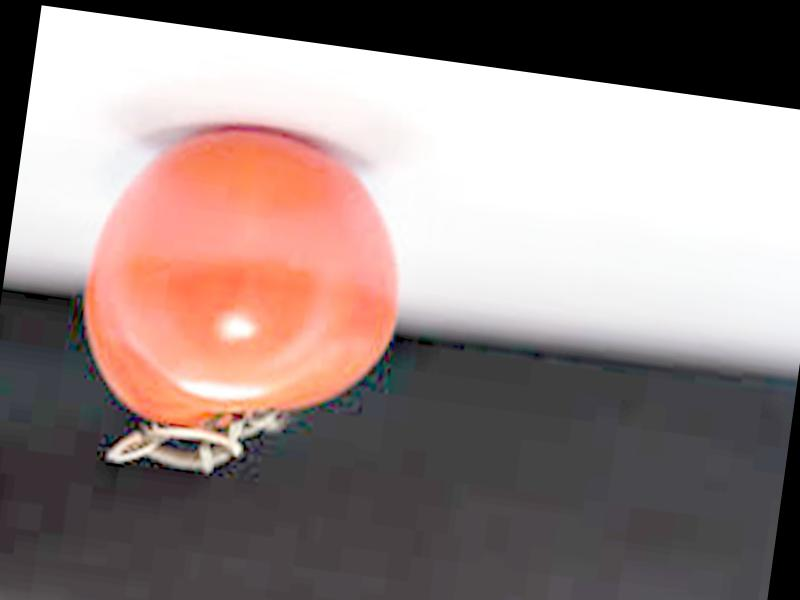Tomato: (68, 110, 421, 455)
